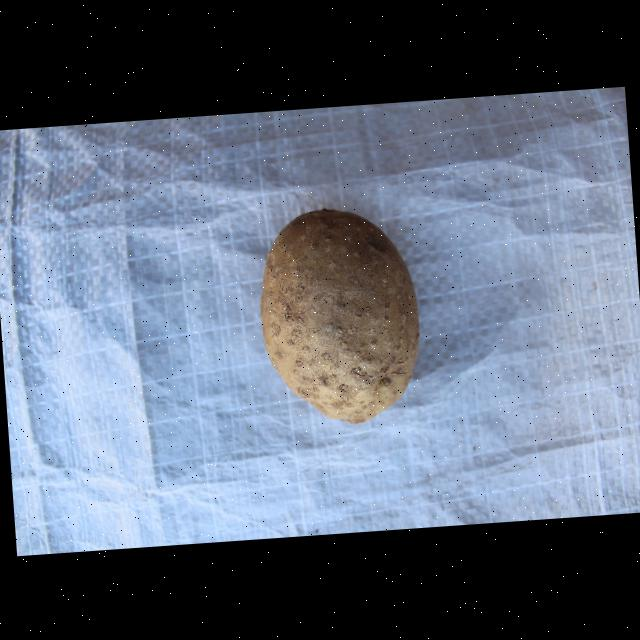Diseased-fungal potato: (253, 196, 427, 432)
